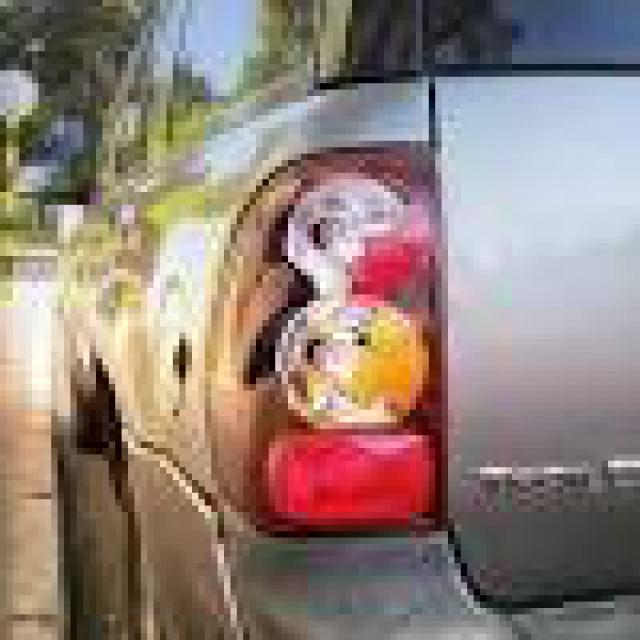Taillight-Damage: (205, 128, 461, 538)
